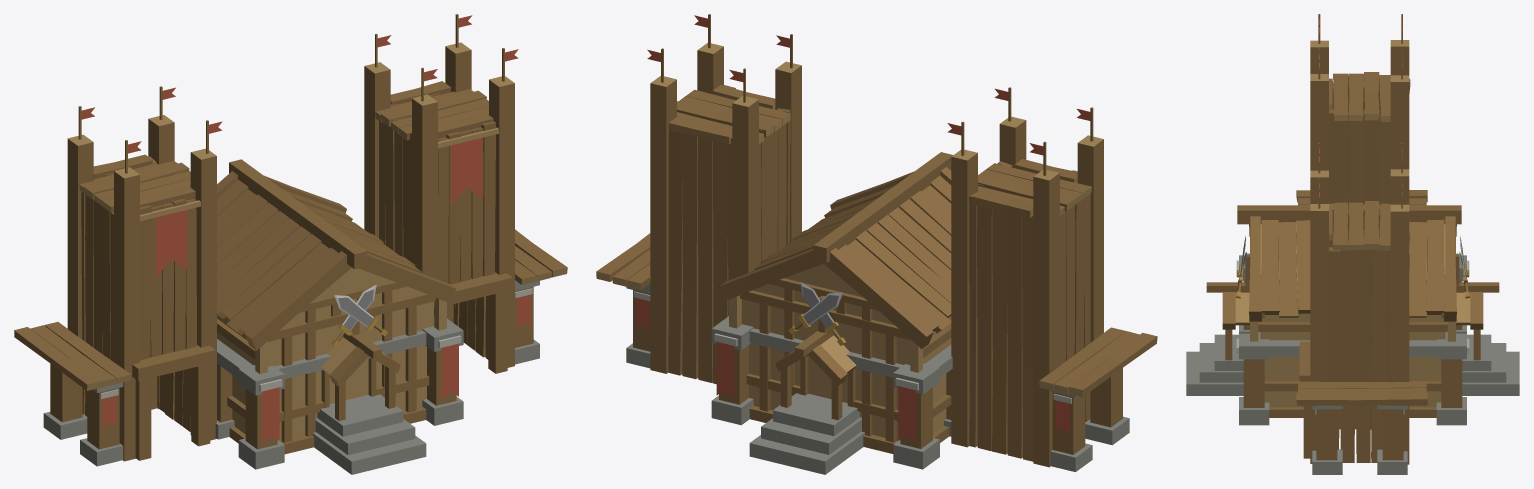
File: Barracks-puD1kbV4kf.glb
3 renders of one model, left to right at view 1: azimuth 30°, elevation 25°; view 2: azimuth 150°, elevation 25°; view 3: azimuth 270°, elevation 25°, orthographic. The views are drawn at different scales.
Parts seen in each view (by area): view 1: Barracks-puD1kbV4kf; view 2: Barracks-puD1kbV4kf; view 3: Barracks-puD1kbV4kf.
Part boxes in pixels (left/top/right/bottom): Barracks-puD1kbV4kf: left=14, top=14, right=567, bottom=474; Barracks-puD1kbV4kf: left=596, top=14, right=1157, bottom=474; Barracks-puD1kbV4kf: left=1186, top=14, right=1519, bottom=474.
Bounding box in the file's own units: 2.33 × 1.47 × 1.57.
